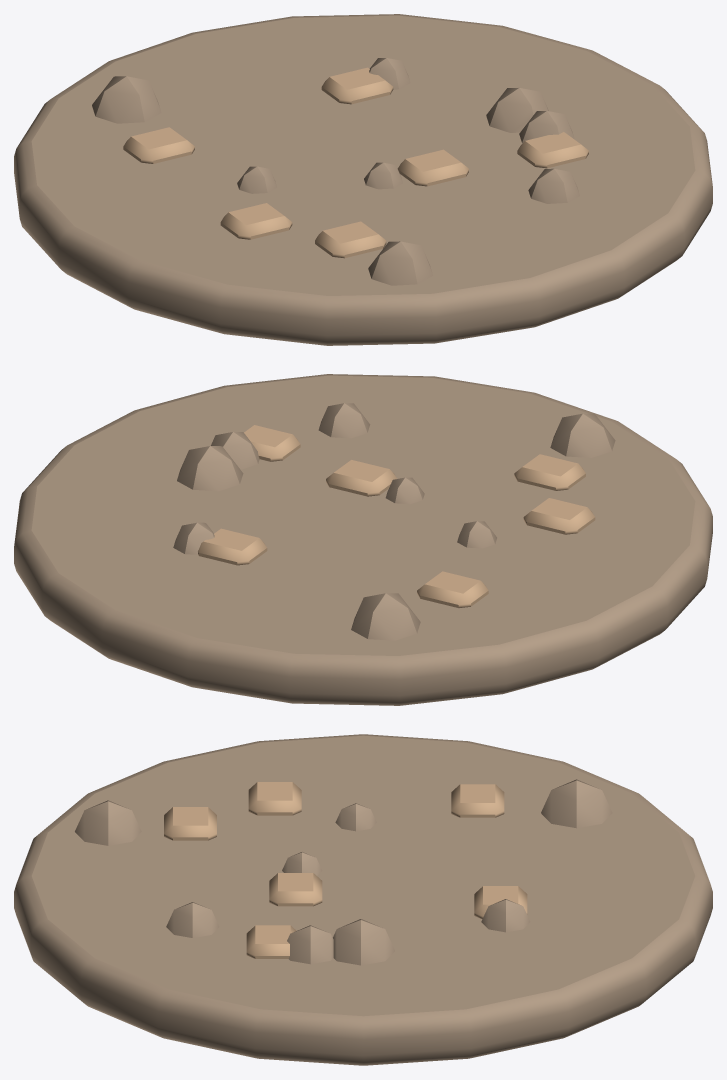
Rendered from kr_soup_mushroom.glb.
The picture shows the model from 3 angles, top to bottom: view 1: azimuth 30°, elevation 25°; view 2: azimuth 150°, elevation 25°; view 3: azimuth 270°, elevation 25°; orthographic projection.
Visible parts, largest first — view 1: vc_m0_r2, vc_m0_r6; view 2: vc_m0_r2, vc_m0_r6; view 3: vc_m0_r2, vc_m0_r6.
Boxes of the visible parts, bbox=[...] form: vc_m0_r2: bbox=[14, 14, 712, 345]; vc_m0_r6: bbox=[123, 67, 588, 258]; vc_m0_r2: bbox=[14, 374, 712, 705]; vc_m0_r6: bbox=[198, 425, 595, 607]; vc_m0_r2: bbox=[14, 734, 712, 1065]; vc_m0_r6: bbox=[164, 782, 527, 958].
Size of the model in its own units: 0.396 by 0.0504 by 0.396.
